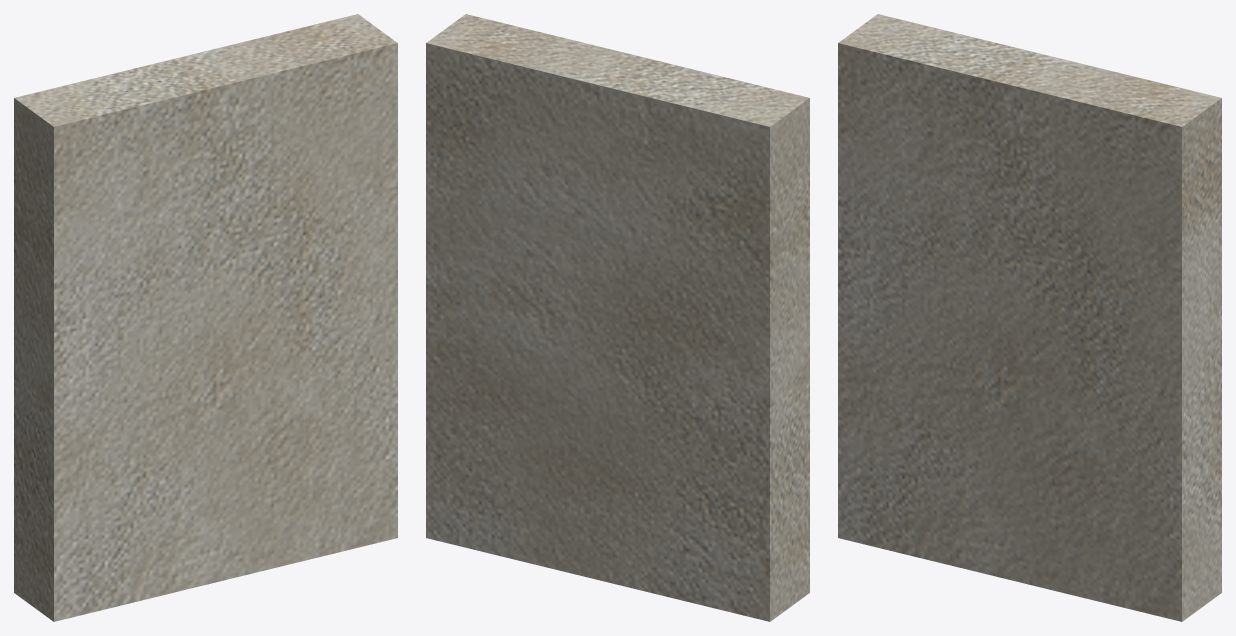
Rendered from WallUnit_2_75m.fbx.
3 views of the same model, side by side, from view 1: azimuth 30°, elevation 25°; view 2: azimuth 150°, elevation 25°; view 3: azimuth 330°, elevation 25° (orthographic).
Parts seen in each view (by area): view 1: Wall_2m75; view 2: Wall_2m75; view 3: Wall_2m75.
Boxes of the visible parts, x1,y1,x2,y2 form: Wall_2m75: [14, 14, 397, 621]; Wall_2m75: [426, 14, 809, 621]; Wall_2m75: [838, 14, 1221, 621].
Size of the model in its own units: 200 by 275 by 40.
1 material, 1 textured.
